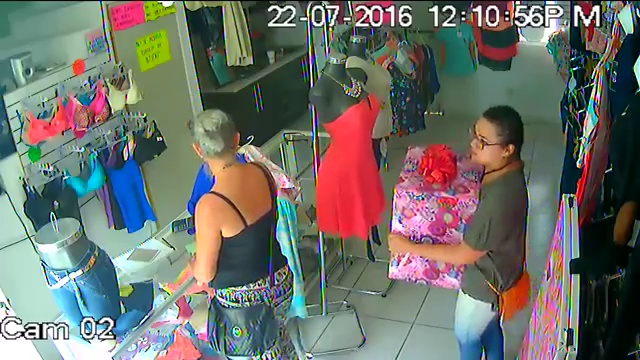face: (467, 124, 508, 167)
